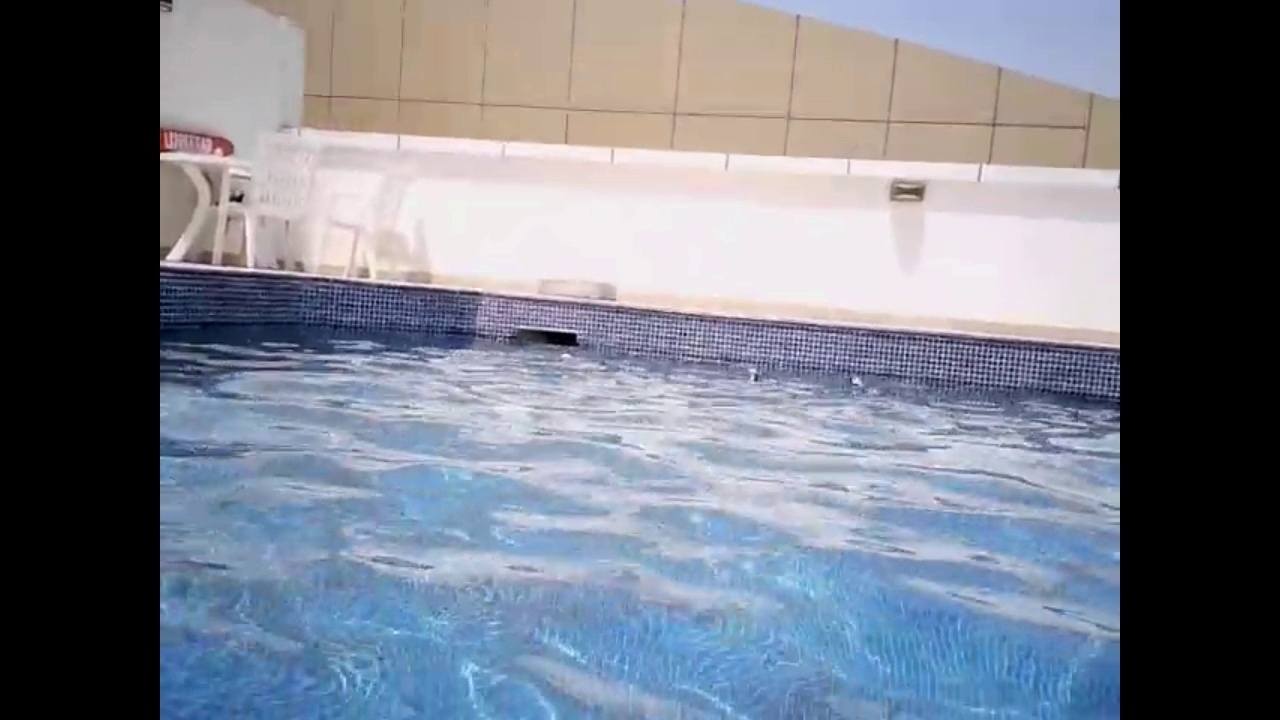debris: (745, 360, 762, 386), (842, 373, 862, 391), (560, 349, 572, 361)
